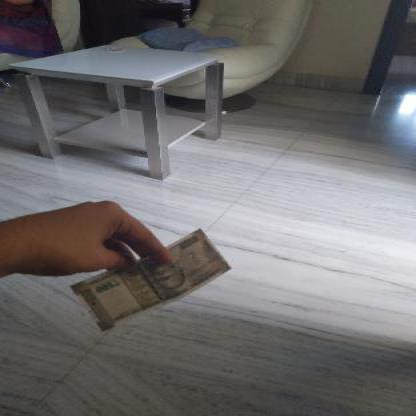New500Front: (72, 228, 220, 320)
